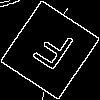F: (25, 25, 77, 81)
